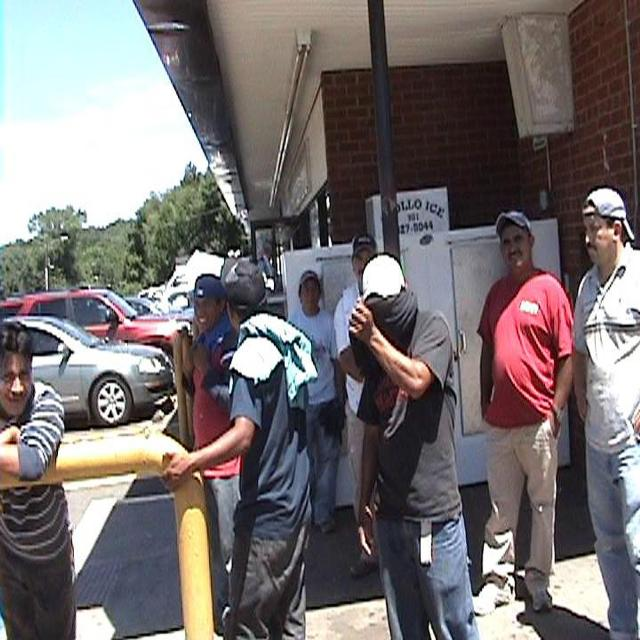human: (167, 261, 315, 640), (342, 256, 476, 640), (558, 166, 639, 640), (467, 206, 559, 623), (0, 319, 86, 640), (171, 280, 248, 618), (331, 238, 404, 574), (275, 256, 339, 532)
loitering: (332, 250, 482, 640), (192, 249, 317, 640), (470, 208, 574, 620), (557, 187, 640, 640), (167, 276, 247, 626), (0, 321, 83, 640), (336, 237, 406, 580), (275, 255, 340, 531)
